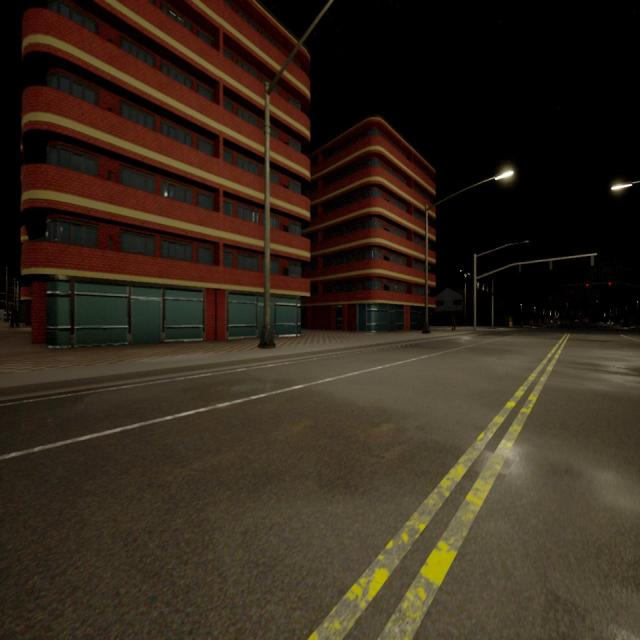Pedestrian: (11, 307, 18, 327)
traffic_light: (591, 256, 594, 266), (550, 260, 552, 270), (519, 265, 521, 272), (609, 282, 611, 286), (586, 284, 588, 286)
